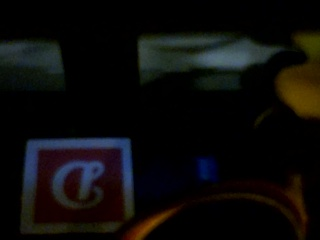D: (33, 145, 129, 224)
